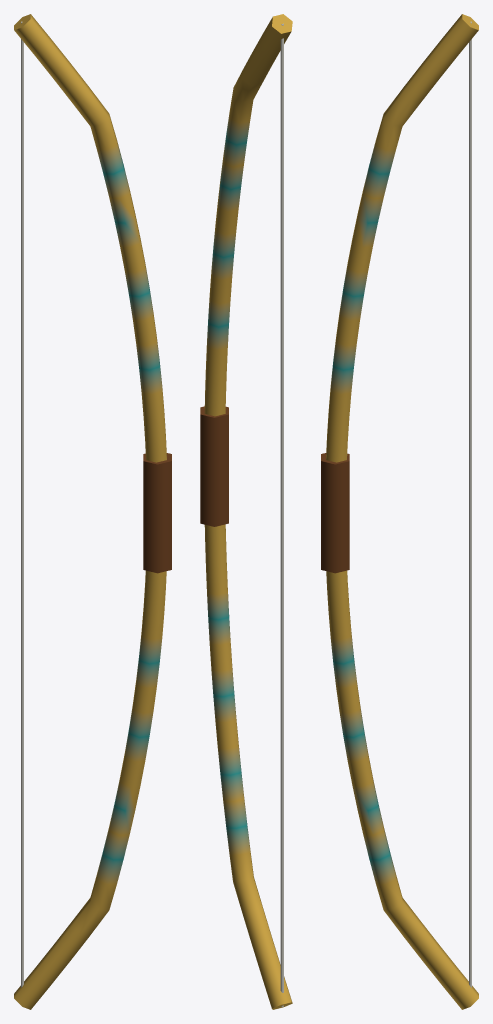
The model's file is bow.glb.
3 renders of one model, left to right at view 1: azimuth 90°, elevation 25°; view 2: azimuth 210°, elevation 25°; view 3: azimuth 270°, elevation 25°, orthographic.
Parts seen in each view (by area): view 1: bow; view 2: bow; view 3: bow.
Part boxes in pixels (left/top/right/bottom): bow: left=14, top=14, right=171, bottom=1009; bow: left=200, top=14, right=292, bottom=1009; bow: left=321, top=14, right=478, bottom=1009.
Size of the model in its own units: 0.044 by 1.46 by 0.2102.
